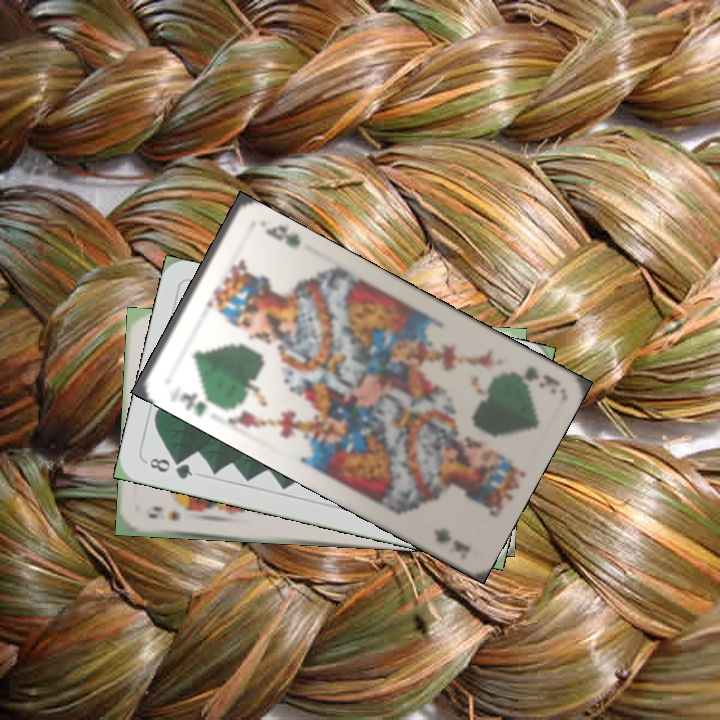G8: (142, 454, 195, 482)
GK: (501, 362, 562, 391), (176, 388, 219, 419)
S9: (145, 503, 183, 523)
